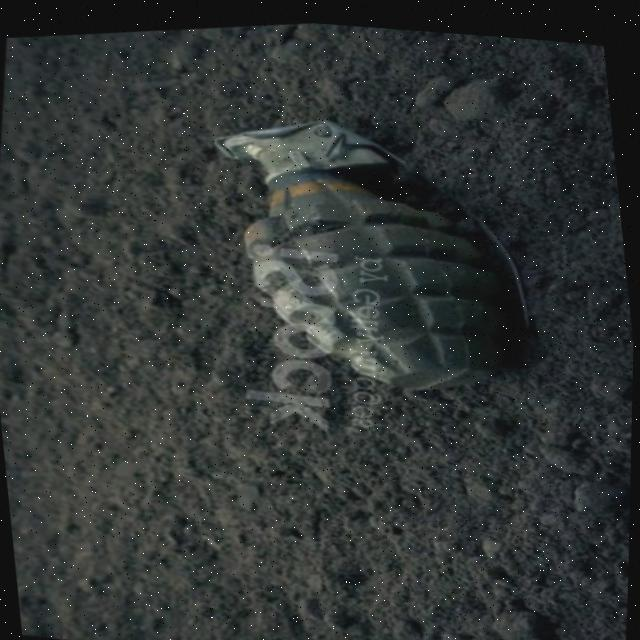grenade: (172, 59, 583, 444)
